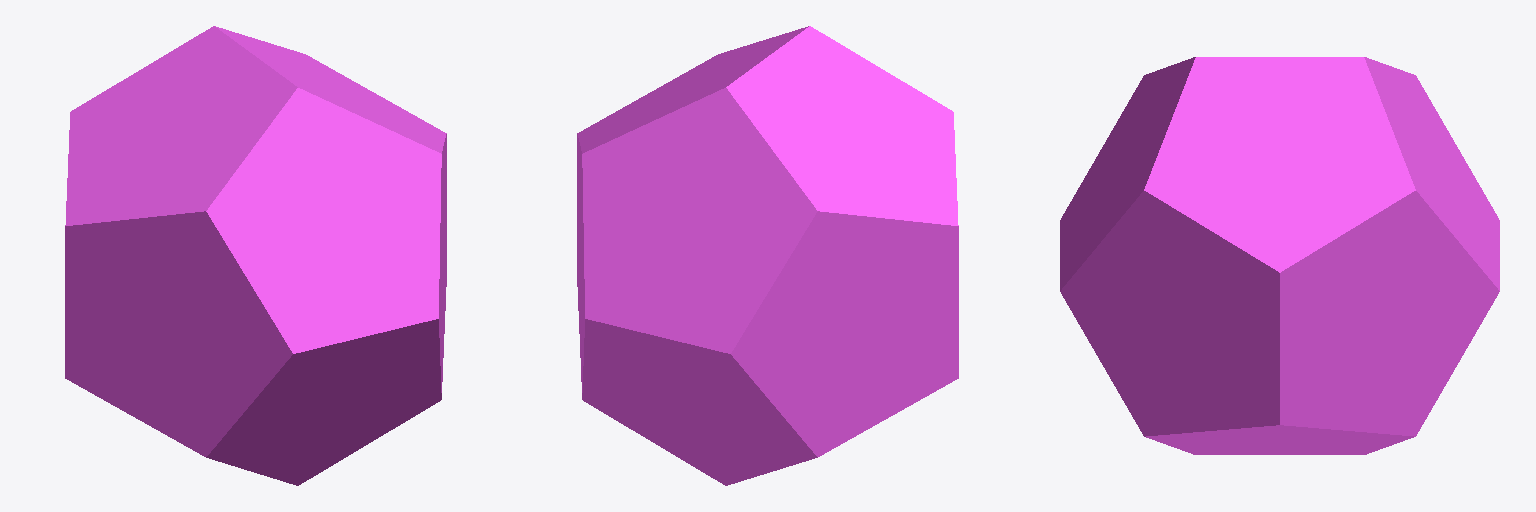
The model's file is dodec-sub.obj.
3 renders of one model, left to right at view 1: azimuth 30°, elevation 25°; view 2: azimuth 150°, elevation 25°; view 3: azimuth 270°, elevation 25°, orthographic.
Visible parts, largest first — view 1: dodecahedron1; view 2: dodecahedron1; view 3: dodecahedron1.
Part boxes in pixels (left/top/right/bottom): dodecahedron1: left=65, top=26, right=446, bottom=485; dodecahedron1: left=577, top=26, right=958, bottom=485; dodecahedron1: left=1060, top=57, right=1499, bottom=454.
Bounding box in the file's own units: 2.62 × 2.62 × 2.62.